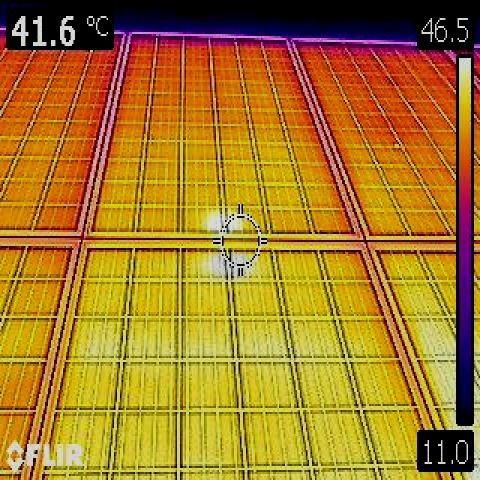fault: (212, 252, 247, 280), (208, 209, 242, 231)
